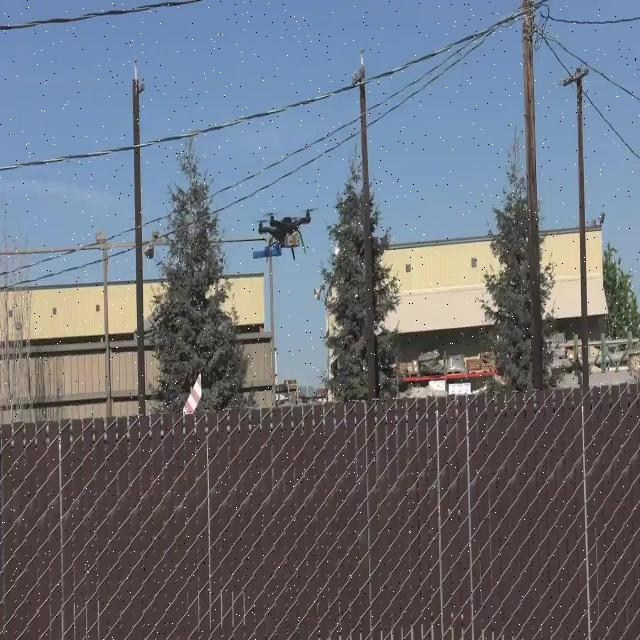UAV: (253, 208, 318, 263)
